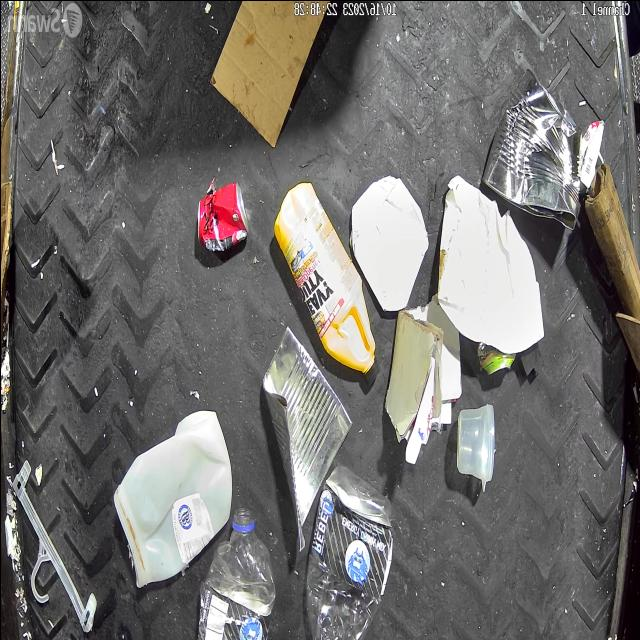can: (480, 72, 581, 230), (193, 180, 245, 256), (475, 343, 512, 374)
milk_jug: (111, 411, 232, 587)
non_white_jug: (274, 177, 380, 379)
plastic_bottle: (304, 462, 392, 640), (196, 507, 274, 640)
